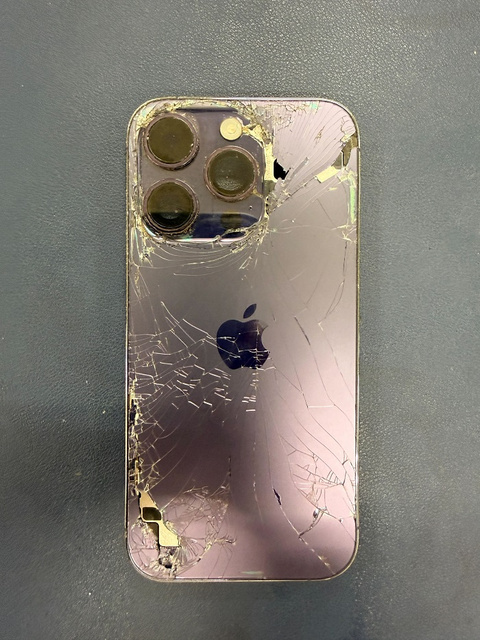crack_phone: (111, 80, 374, 601)
